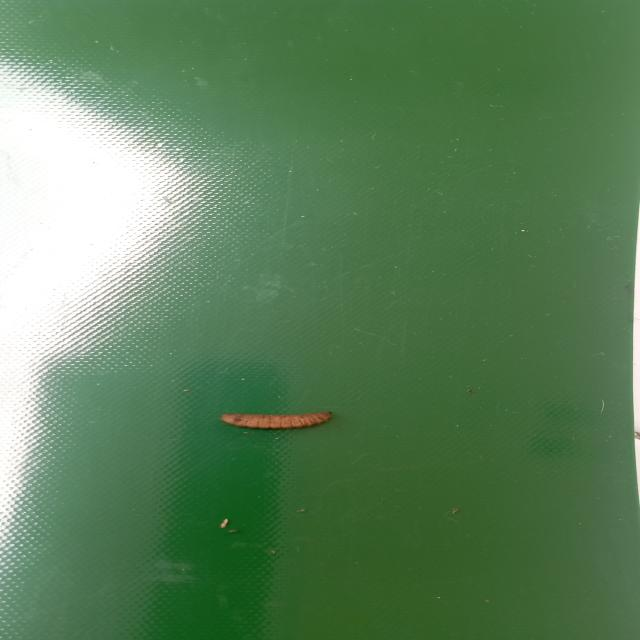Maggot: (219, 411, 332, 432)
